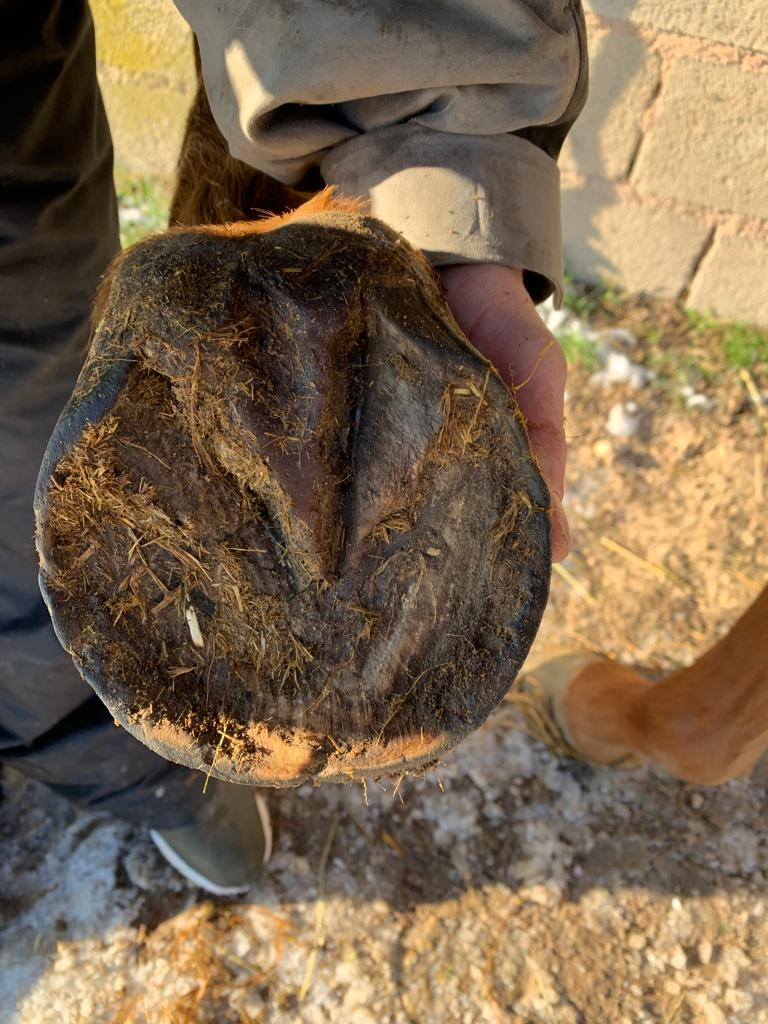horsesole: (31, 281, 550, 787)
